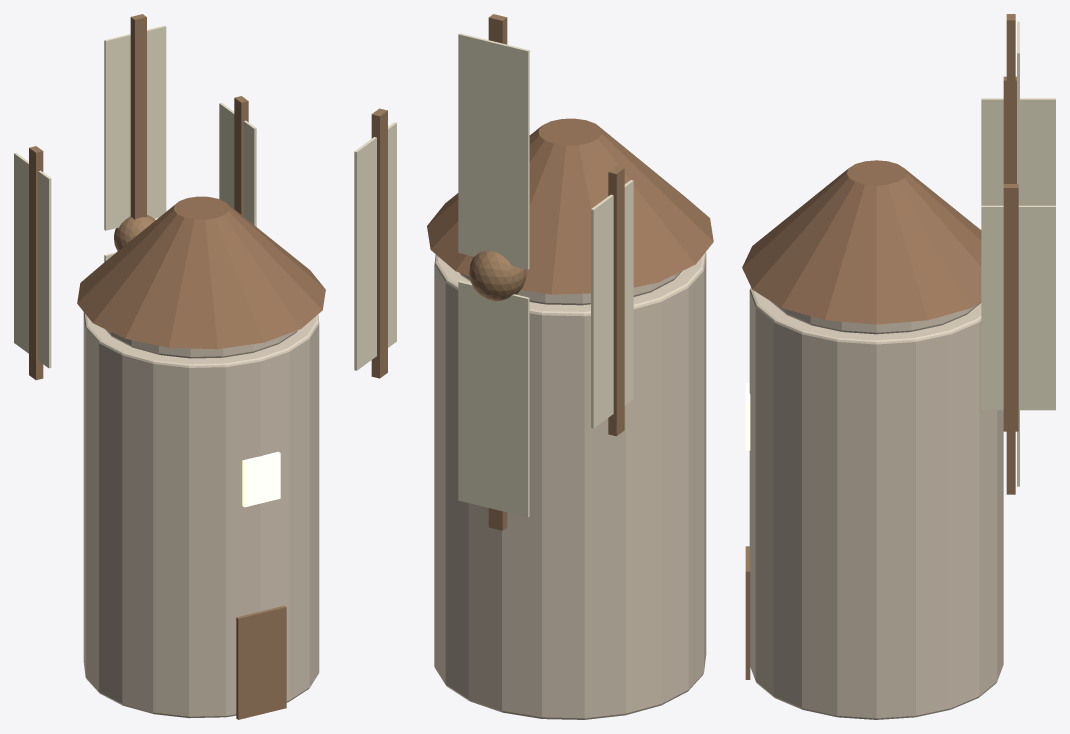
File: windmill.glb
3 renders of one model, left to right at view 1: azimuth 30°, elevation 25°; view 2: azimuth 150°, elevation 25°; view 3: azimuth 270°, elevation 25°, orthographic. The views are drawn at different scales.
Parts seen in each view (by area): view 1: Windmill; view 2: Windmill; view 3: Windmill.
Boxes of the visible parts, x1,y1,x2,y2 form: Windmill: [14, 14, 325, 719]; Windmill: [354, 14, 713, 719]; Windmill: [742, 14, 1055, 719].
Bounding box in the file's own units: 1.8 × 4.8 × 2.1.
